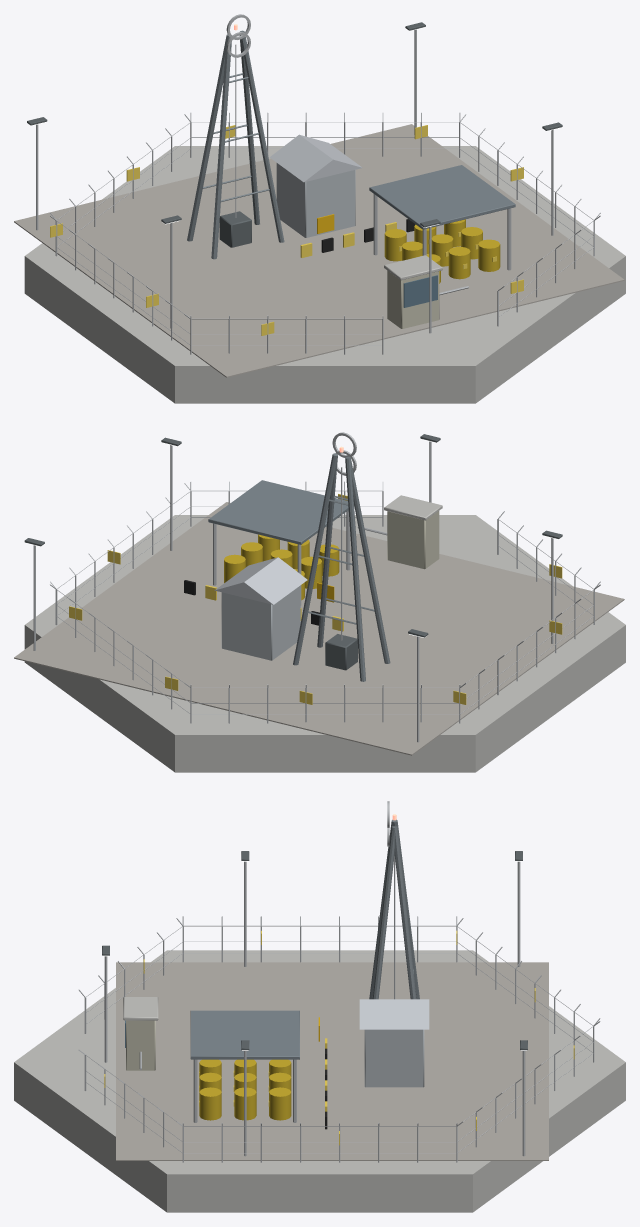
File: extractor_uranium.glb
3 views of the same model, one above another, from view 1: azimuth 30°, elevation 25°; view 2: azimuth 150°, elevation 25°; view 3: azimuth 270°, elevation 25° (orthographic).
Parts seen in each view (by area): view 1: gravel, wall_concrete, cladding, paint, metal, hazard, steel_dark, glass; view 2: gravel, wall_concrete, cladding, metal, paint, hazard, steel_dark; view 3: gravel, wall_concrete, cladding, metal, paint.
Part boxes in pixels (x1,y1,x2,y2): gravel: (14, 124, 624, 377); wall_concrete: (24, 146, 625, 403); cladding: (269, 134, 515, 328); paint: (187, 30, 500, 283); metal: (36, 14, 600, 354); hazard: (50, 125, 523, 335); steel_dark: (27, 22, 562, 247); glass: (403, 275, 437, 307); gravel: (14, 502, 624, 755); wall_concrete: (24, 495, 625, 772); cladding: (208, 480, 439, 660); metal: (33, 432, 600, 742); paint: (224, 453, 390, 681); hazard: (69, 494, 562, 704); steel_dark: (24, 434, 562, 670); gravel: (116, 962, 548, 1160); wall_concrete: (14, 950, 625, 1212); cladding: (126, 999, 429, 1087); metal: (78, 801, 600, 1162); paint: (199, 819, 419, 1120).
Bounding box in the file's own units: 21.3 × 12.04 × 24.6.
